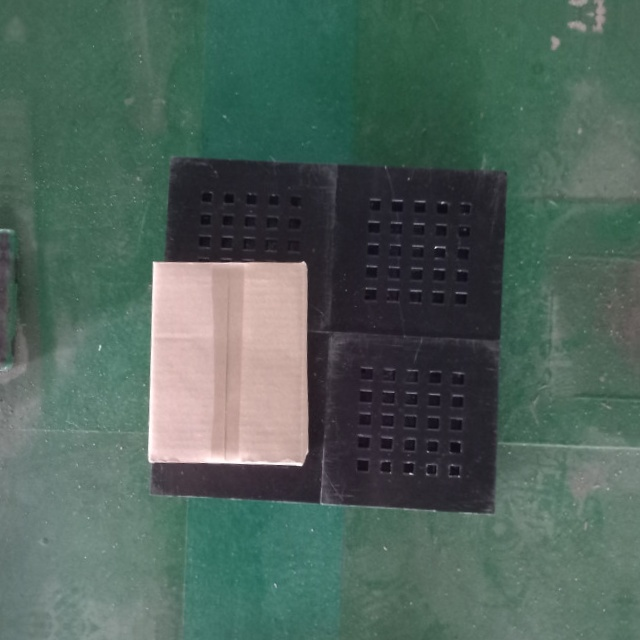box: (148, 257, 311, 467)
pallet: (138, 148, 510, 529)
